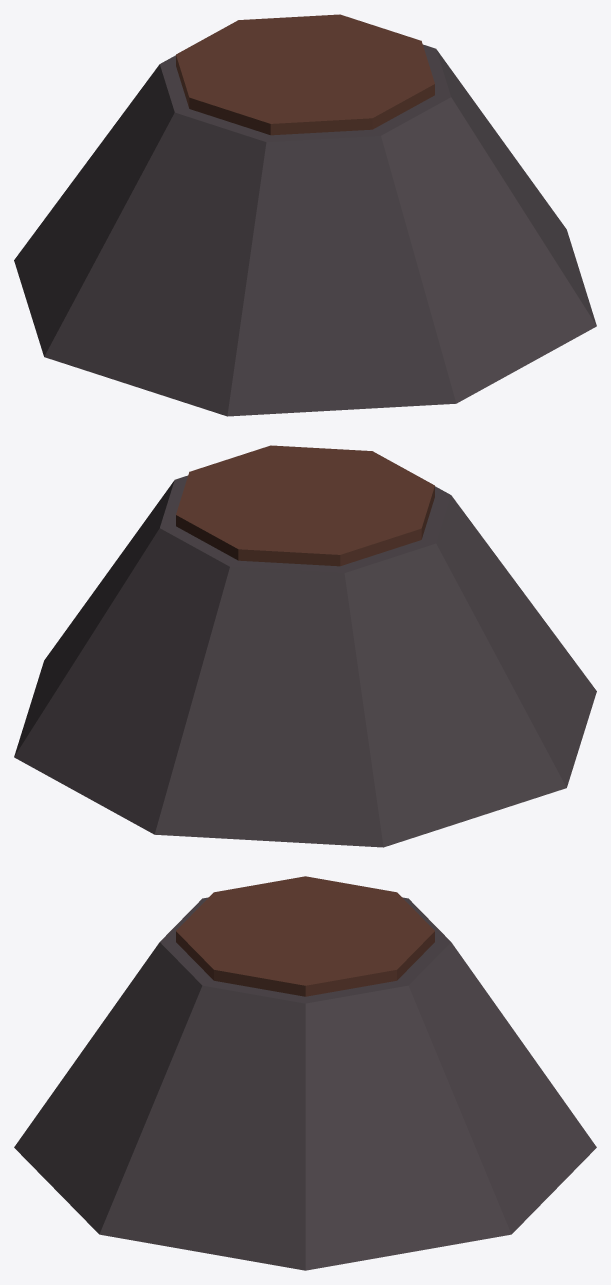
Rendered from volcano-vent.glb.
3 views of the same model, one above another, from view 1: azimuth 30°, elevation 25°; view 2: azimuth 150°, elevation 25°; view 3: azimuth 270°, elevation 25° (orthographic). The views are drawn at different scales.
Visible parts, largest first — view 1: volcano-vent; view 2: volcano-vent; view 3: volcano-vent.
Boxes of the visible parts, x1,y1,x2,y2 form: volcano-vent: (14,14,596,416); volcano-vent: (14,445,596,847); volcano-vent: (14,876,596,1270).
Size of the model in its own units: 0.72 by 0.295 by 0.72.
